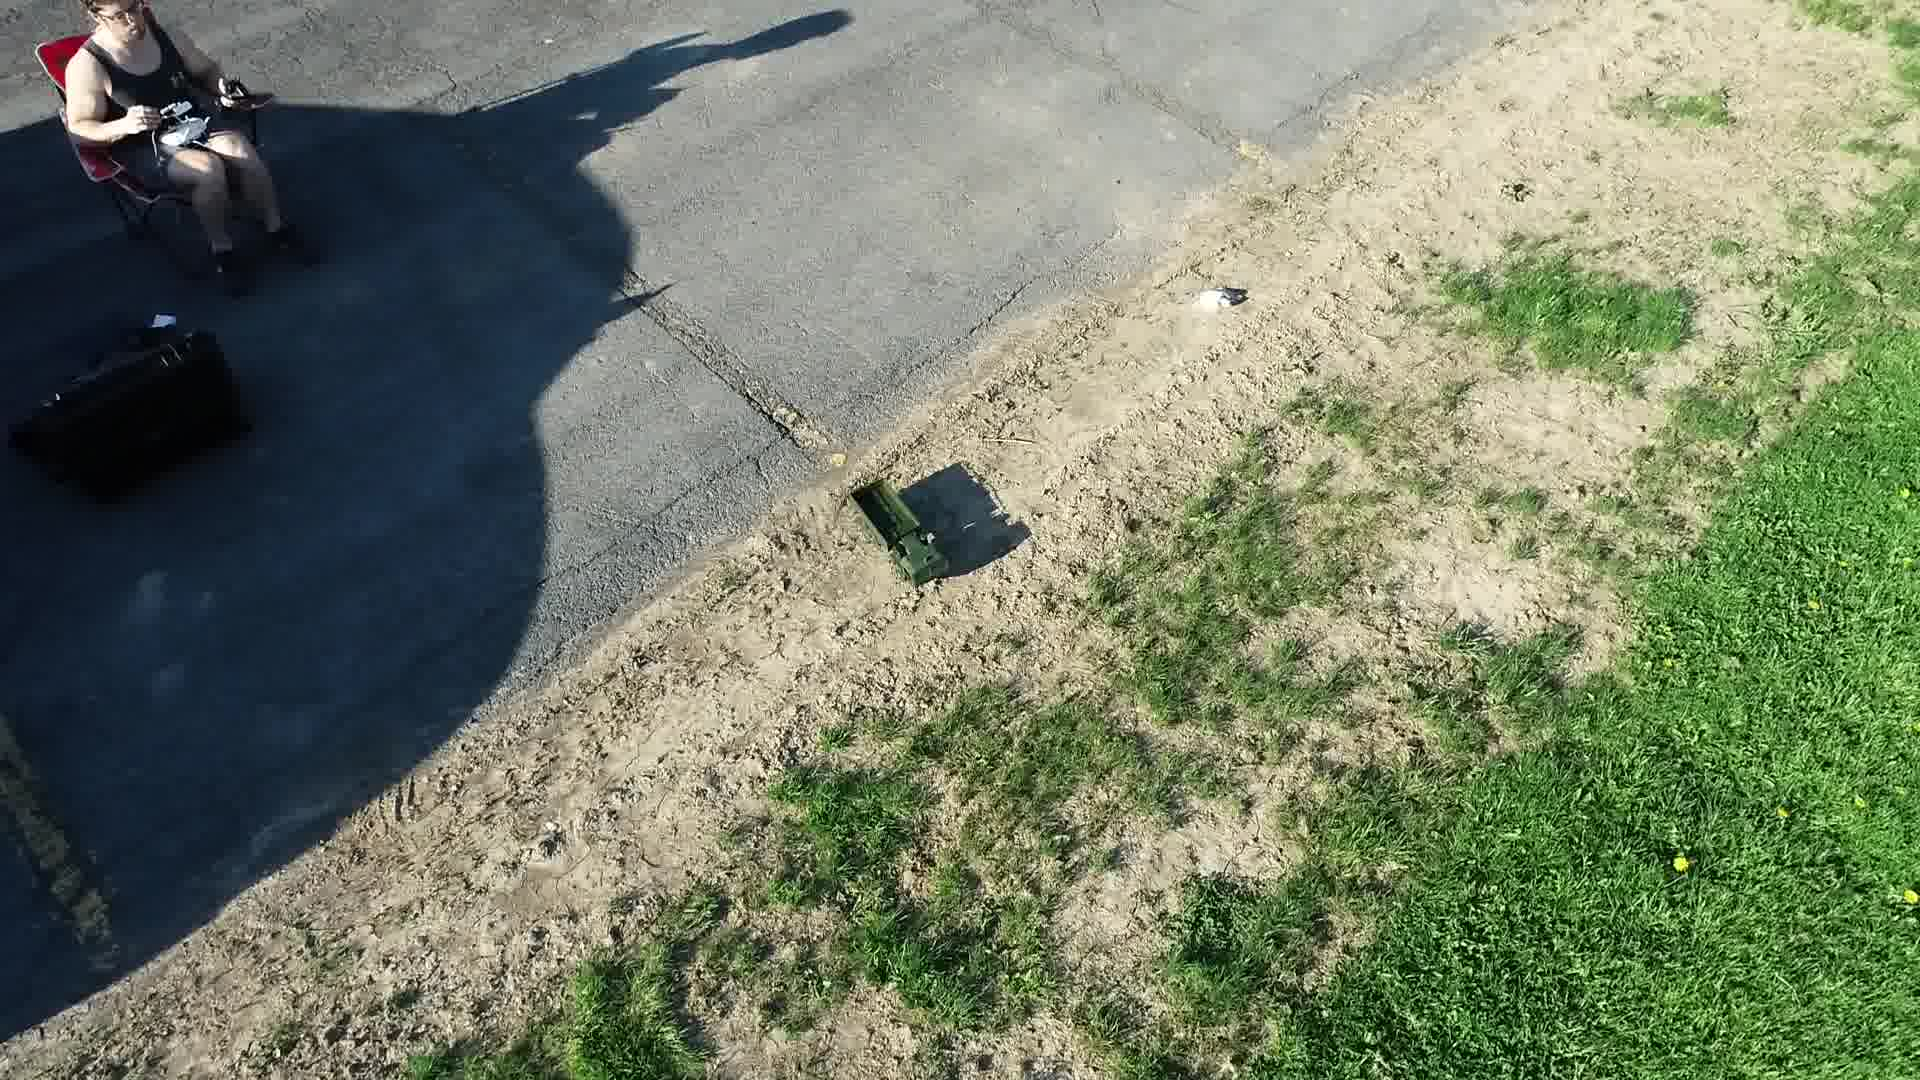transporter9: (849, 476, 955, 589)
